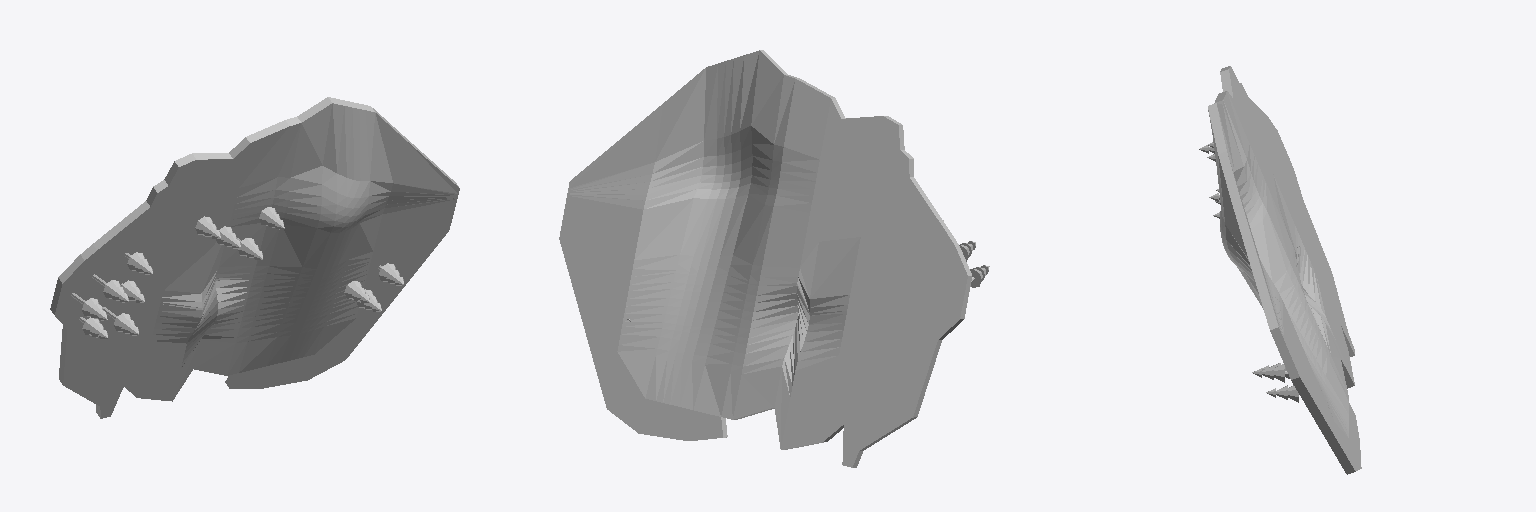
Rendered from plataforma1.obj.
The picture shows the model from 3 angles: view 1: azimuth 30°, elevation 25°; view 2: azimuth 150°, elevation 25°; view 3: azimuth 270°, elevation 25°; orthographic projection.
Visible parts, largest first — view 1: pCylinder36; view 2: pCylinder36; view 3: pCylinder36.
Part boxes in pixels (bbox=[...]): pCylinder36: bbox=[50, 97, 459, 418]; pCylinder36: bbox=[559, 50, 989, 467]; pCylinder36: bbox=[1199, 66, 1361, 474].
Size of the model in its own units: 4.91 by 4.07 by 1.74.